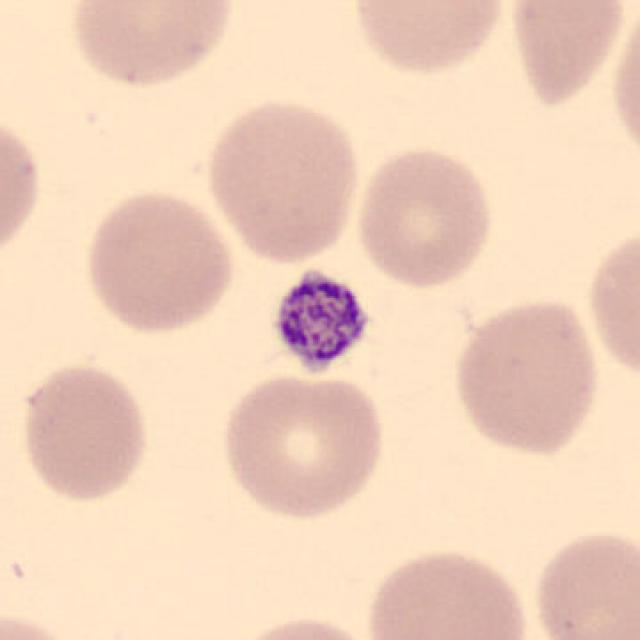Platelets: (267, 266, 377, 379)
RBC: (201, 93, 364, 268), (215, 368, 389, 524), (448, 293, 603, 460), (78, 185, 240, 339), (350, 141, 498, 291), (14, 360, 155, 506), (361, 543, 535, 640), (64, 0, 240, 92), (503, 0, 631, 109), (526, 523, 638, 640), (346, 0, 510, 79), (583, 220, 640, 388), (0, 108, 46, 268), (606, 4, 640, 168), (217, 610, 389, 640), (0, 606, 83, 640)
